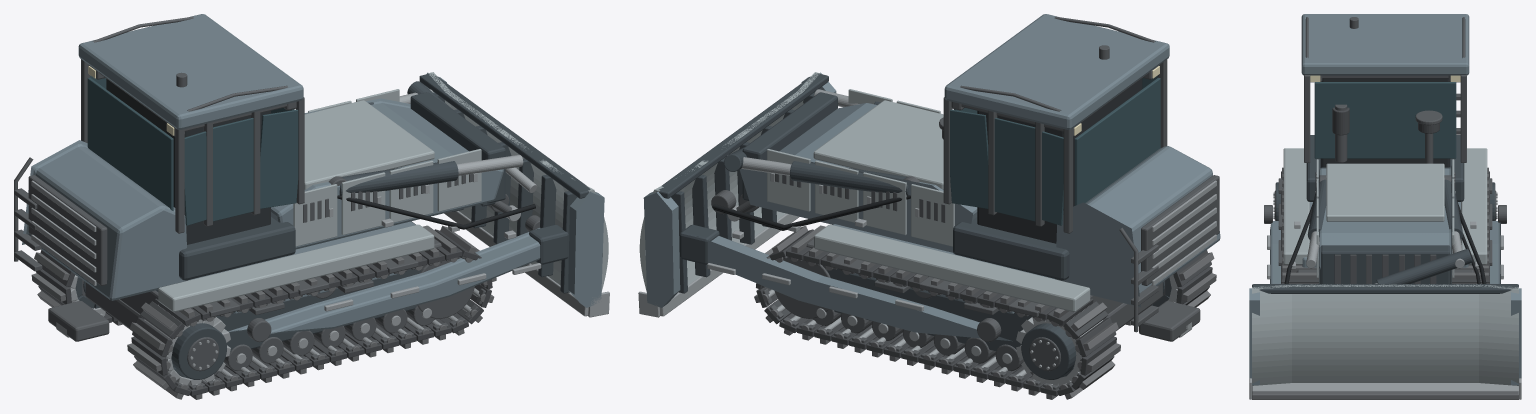
The model's file is cat-d6-structural-study.glb.
The picture shows the model from 3 angles, left to right: view 1: azimuth 30°, elevation 25°; view 2: azimuth 150°, elevation 25°; view 3: azimuth 270°, elevation 25°; orthographic projection. The views are drawn at different scales.
Parts seen in each view (by area): view 1: Cab_Roof, Rear_Fuel_Tank, Fender_R, Push_Arm_R, Engine_Hood_Top, Cab_Rear_Glass, Engine_Hood_Main, Cab_Base, Cab_R_Door_Glass, Blade_SU_Wing_R, Cab_R_Front_Glass, Rear_Grille (+33 smaller); view 2: Cab_Roof, Rear_Fuel_Tank, Fender_L, Push_Arm_L, Engine_Hood_Top, Cab_Rear_Glass, Engine_Hood_Main, Cab_Base, Cab_L_Door_Glass, Blade_SU_Wing_L, Cab_L_Front_Glass, Rear_Grille (+32 smaller); view 3: Blade_6SU_Shell, Cab_Roof, Cab_Front_Glass, Engine_Hood_Top, Engine_Hood_Main, Radiator_Nose, Blade_Cutting_Edge, Fender_R, Blade_Top_Rail, Fender_L, Blade_Cutting_Edge_Leading_Lip, Blade_Tilt_Cylinder_Barrel (+20 smaller).
Boxes of the visible parts, left/top/right/bottom form: Cab_Roof: left=78, top=14, right=303, bottom=129; Rear_Fuel_Tank: left=22, top=140, right=187, bottom=300; Fender_R: left=158, top=224, right=434, bottom=312; Push_Arm_R: left=228, top=228, right=540, bottom=334; Engine_Hood_Top: left=304, top=100, right=434, bottom=189; Cab_Rear_Glass: left=87, top=77, right=173, bottom=210; Engine_Hood_Main: left=271, top=98, right=503, bottom=249; Cab_Base: left=179, top=217, right=295, bottom=280; Cab_R_Door_Glass: left=213, top=118, right=253, bottom=221; Blade_SU_Wing_R: left=568, top=191, right=604, bottom=307; Cab_R_Front_Glass: left=260, top=109, right=298, bottom=208; Rear_Grille: left=28, top=175, right=107, bottom=285; Cab_Roof: left=944, top=14, right=1169, bottom=129; Rear_Fuel_Tank: left=1055, top=146, right=1220, bottom=307; Fender_L: left=814, top=224, right=1090, bottom=312; Push_Arm_L: left=696, top=236, right=1012, bottom=341; Engine_Hood_Top: left=813, top=100, right=943, bottom=189; Cab_Rear_Glass: left=1074, top=77, right=1160, bottom=205; Engine_Hood_Main: left=740, top=103, right=977, bottom=252; Cab_Base: left=953, top=217, right=1069, bottom=280; Cab_L_Door_Glass: left=994, top=118, right=1035, bottom=221; Blade_SU_Wing_L: left=643, top=191, right=680, bottom=307; Cab_L_Front_Glass: left=950, top=109, right=988, bottom=208; Rear_Grille: left=1141, top=175, right=1219, bottom=285; Blade_6SU_Shell: left=1252, top=284, right=1518, bottom=385; Cab_Roof: left=1301, top=14, right=1469, bottom=75; Cab_Front_Glass: left=1314, top=82, right=1456, bottom=158; Engine_Hood_Top: left=1326, top=163, right=1444, bottom=221; Engine_Hood_Main: left=1319, top=165, right=1451, bottom=283; Radiator_Nose: left=1320, top=245, right=1450, bottom=283; Blade_Cutting_Edge: left=1252, top=383, right=1518, bottom=394; Fender_R: left=1283, top=148, right=1309, bottom=264; Blade_Top_Rail: left=1252, top=284, right=1518, bottom=293; Fender_L: left=1461, top=148, right=1487, bottom=264; Blade_Cutting_Edge_Leading_Lip: left=1252, top=394, right=1518, bottom=399; Blade_Tilt_Cylinder_Barrel: left=1376, top=248, right=1472, bottom=283.
Size of the model in its own units: 5.44 by 3.19 by 3.31.
